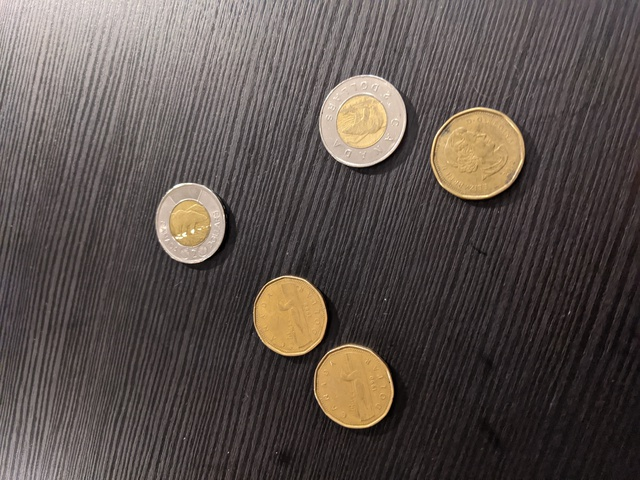loonie: (428, 106, 527, 205), (308, 341, 407, 429), (244, 268, 327, 355)
twonie: (319, 76, 411, 179), (149, 179, 233, 266)
